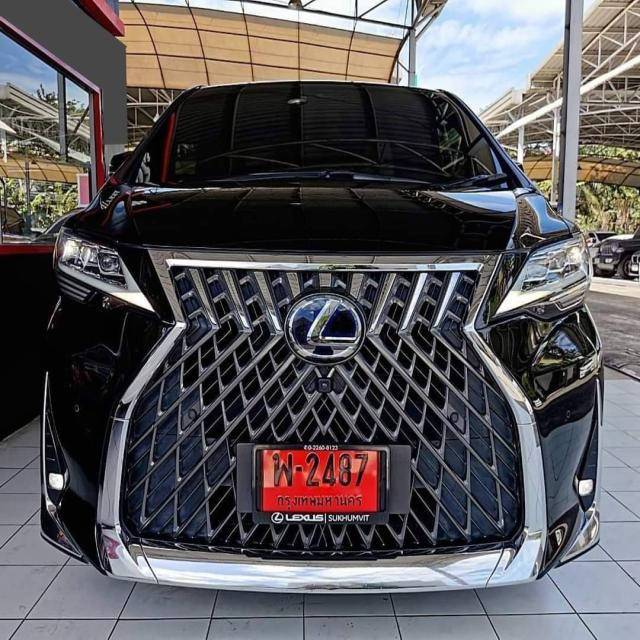license_plate: (253, 444, 388, 526)
